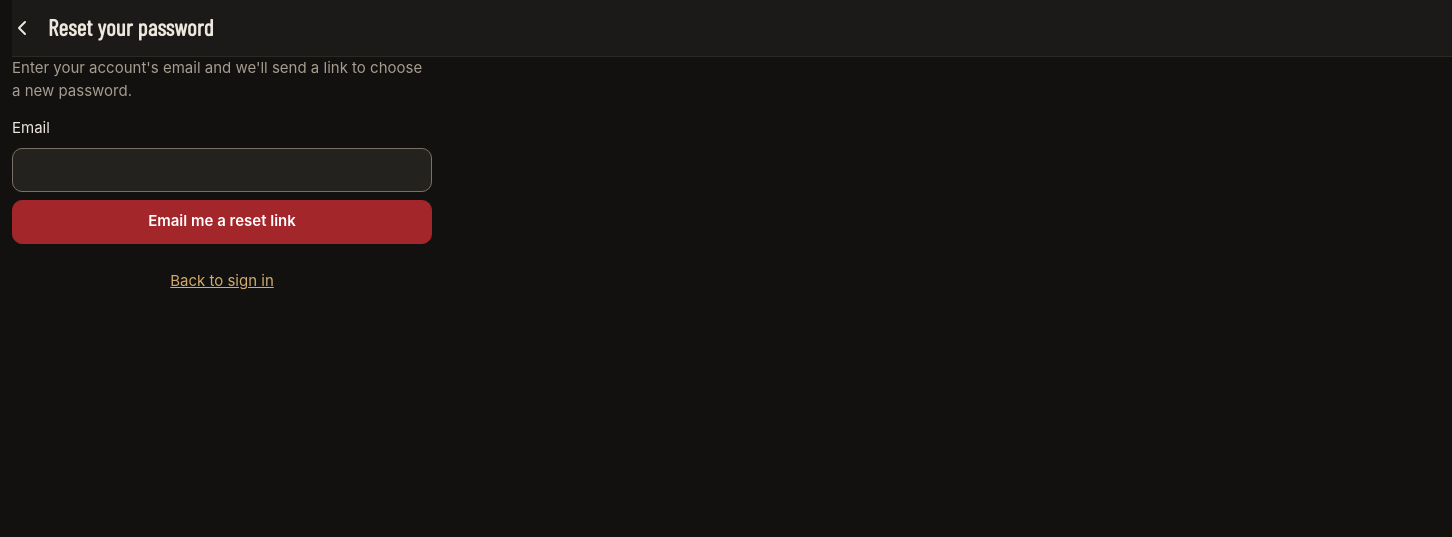
Test: forgot password sends a reset link to the email
Check: the heading "Reset your password" is shown, box [48,13,214,41]
In the field labelled "Email": (222, 170) [12,148,432,192], type "a@b.c"
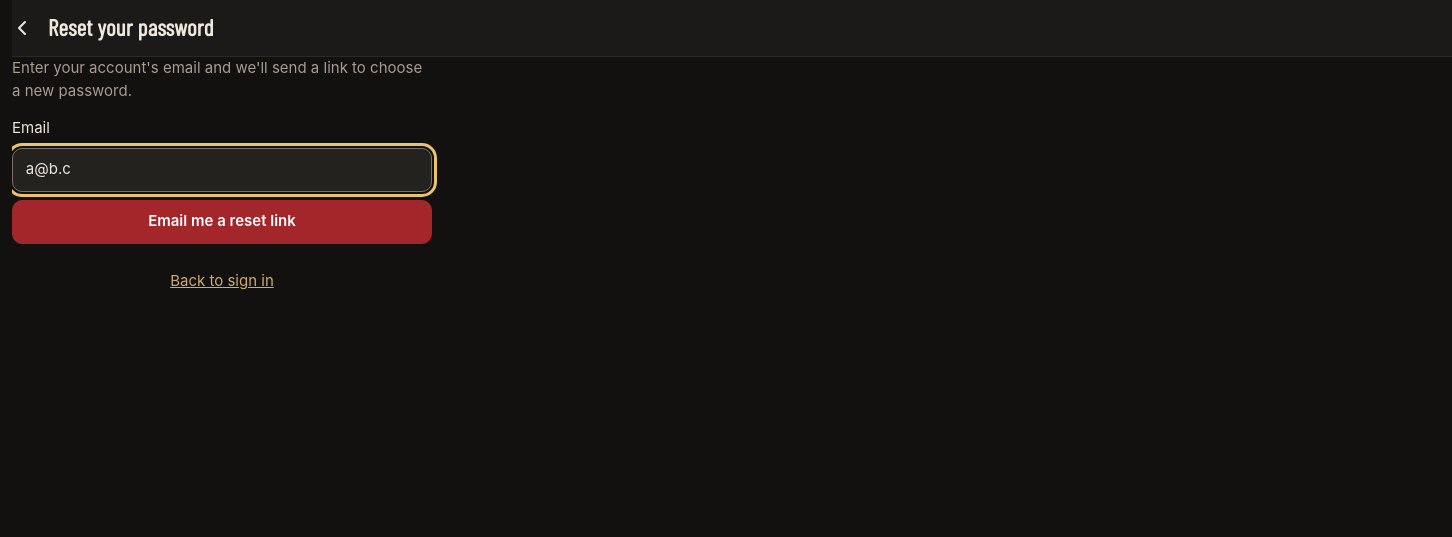
Click the button "Email me a reset link": (222, 222) [12,200,432,244]
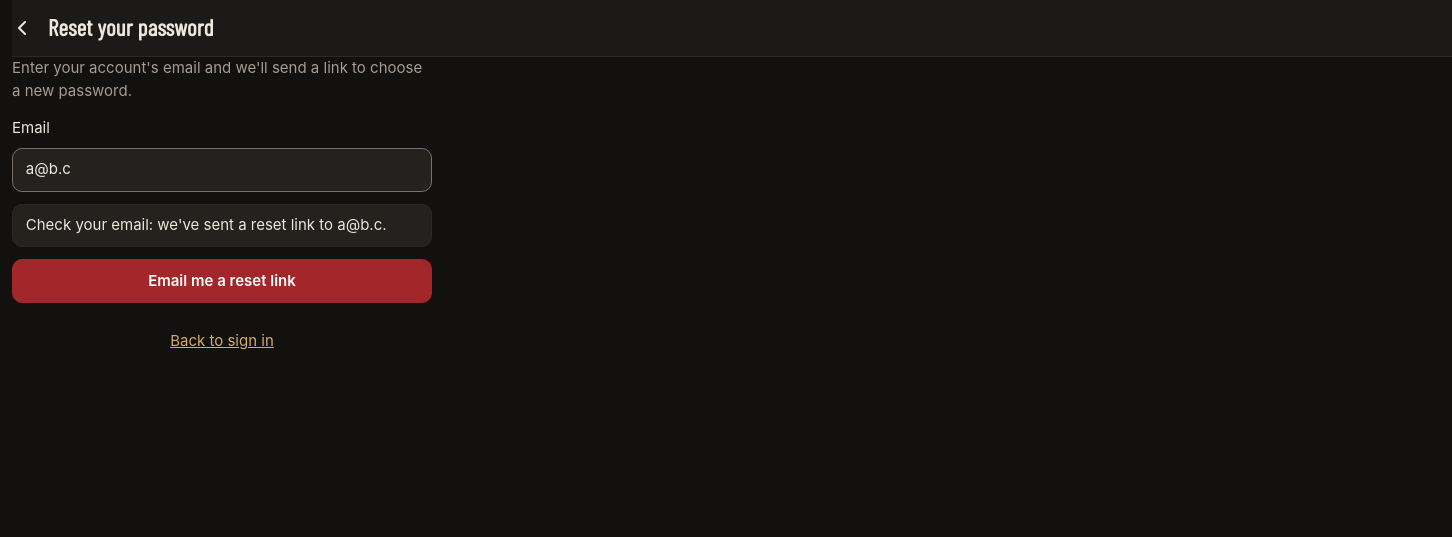
Check: the message shows "Check your email", box [26,215,387,234]
Click the button "Back to sign in": (222, 341) [166,319,278,363]
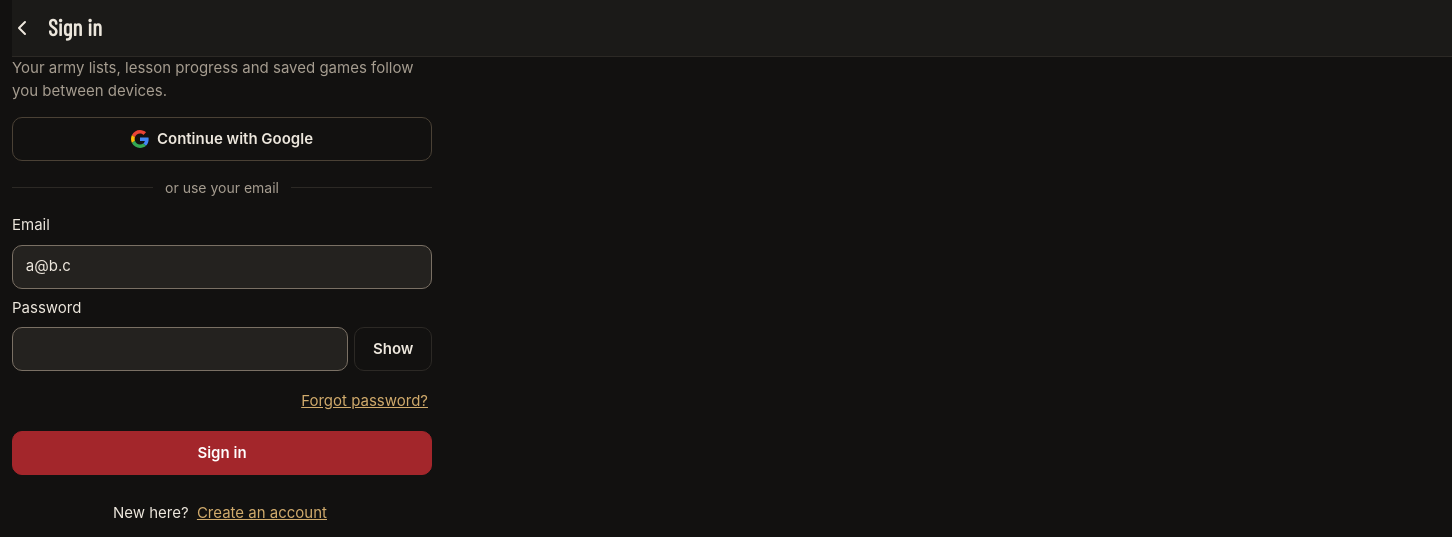
Check: the heading "Sign in" is shown, box [48,13,102,41]
